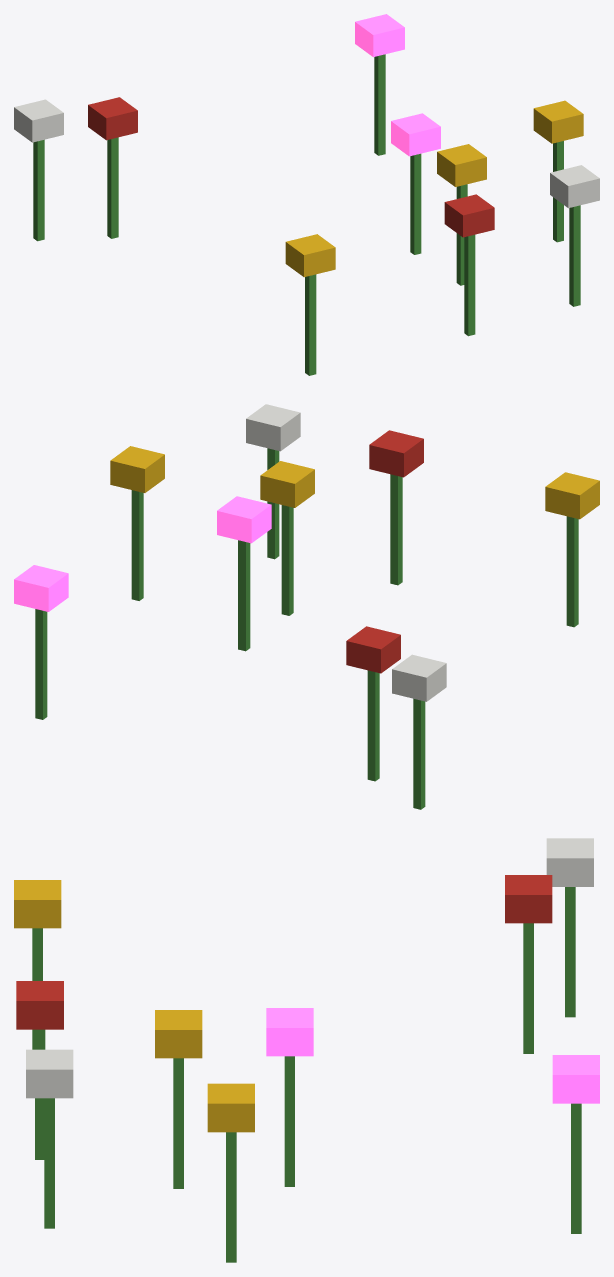
Rendered from flowers.glb.
The picture shows the model from 3 angles, top to bottom: view 1: azimuth 30°, elevation 25°; view 2: azimuth 150°, elevation 25°; view 3: azimuth 270°, elevation 25°; orthographic projection. The views are drawn at different scales.
Parts seen in each view (by area): view 1: flowers_Body; view 2: flowers_Body; view 3: flowers_Body.
Boxes of the visible parts, x1,y1,x2,y2 form: flowers_Body: (14, 14, 599, 375); flowers_Body: (14, 404, 599, 809); flowers_Body: (14, 838, 599, 1262).
Size of the model in its own units: 1.19 by 0.35 by 1.11.
